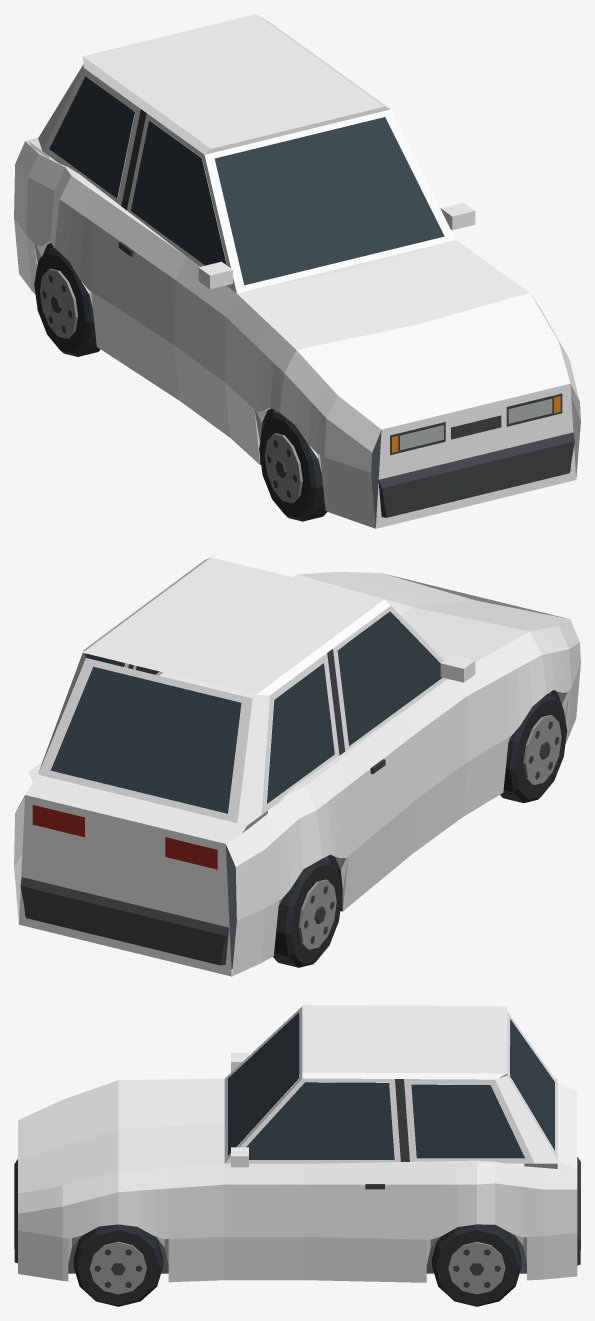
The model's file is hozuki_samidare_s_95.glb.
3 views of the same model, one above another, from view 1: azimuth 30°, elevation 25°; view 2: azimuth 150°, elevation 25°; view 3: azimuth 270°, elevation 25° (orthographic). The views are drawn at different scales.
Parts seen in each view (by area): view 1: hozuki_samidare_s_95; view 2: hozuki_samidare_s_95; view 3: hozuki_samidare_s_95.
Boxes of the visible parts, x1,y1,x2,y2 form: hozuki_samidare_s_95: (14, 14, 580, 528); hozuki_samidare_s_95: (14, 557, 580, 976); hozuki_samidare_s_95: (14, 1005, 580, 1306).
Size of the model in its own units: 1.62 by 1.59 by 3.73.
8 materials, 1 textured.
